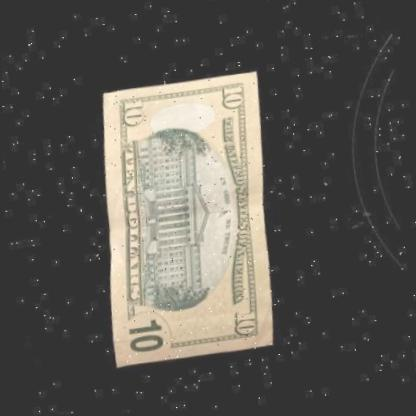ten-back: (80, 65, 303, 368)
